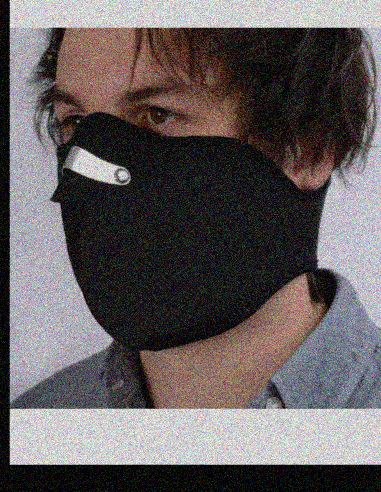with_mask: (50, 72, 291, 354)
